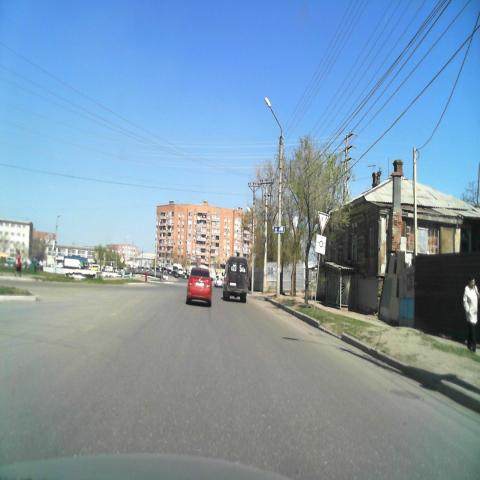8_13_1: (315, 234, 326, 254)
